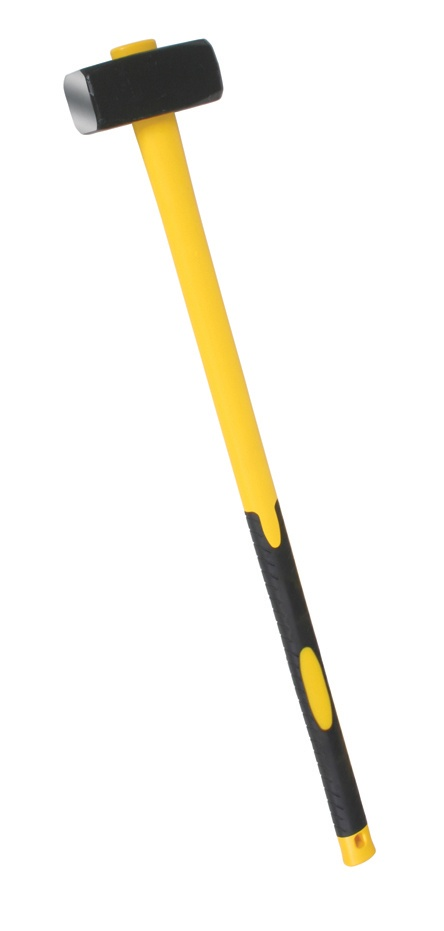hammer: (62, 39, 382, 866)
